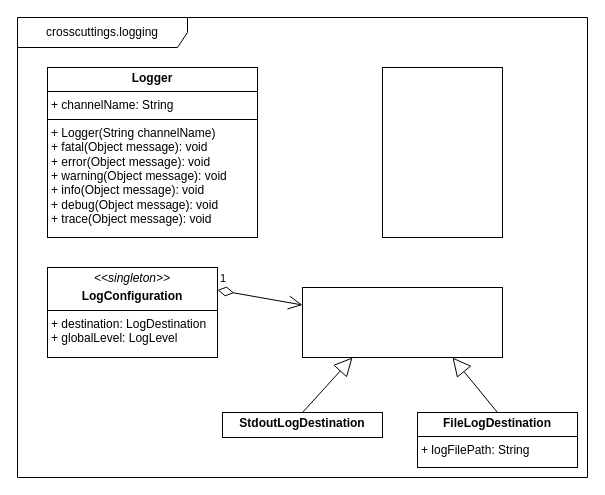
This 605x495 diagram has some shape labels left out. Each missing label, with the box of its shape:
<<abstract>> LogDestination + LogDestination(LogLevel level): (302, 286, 502, 358)
<<enum>> LogLevel + off + fatal + error + warning + info + debug + trace + all: (382, 66, 502, 238)
